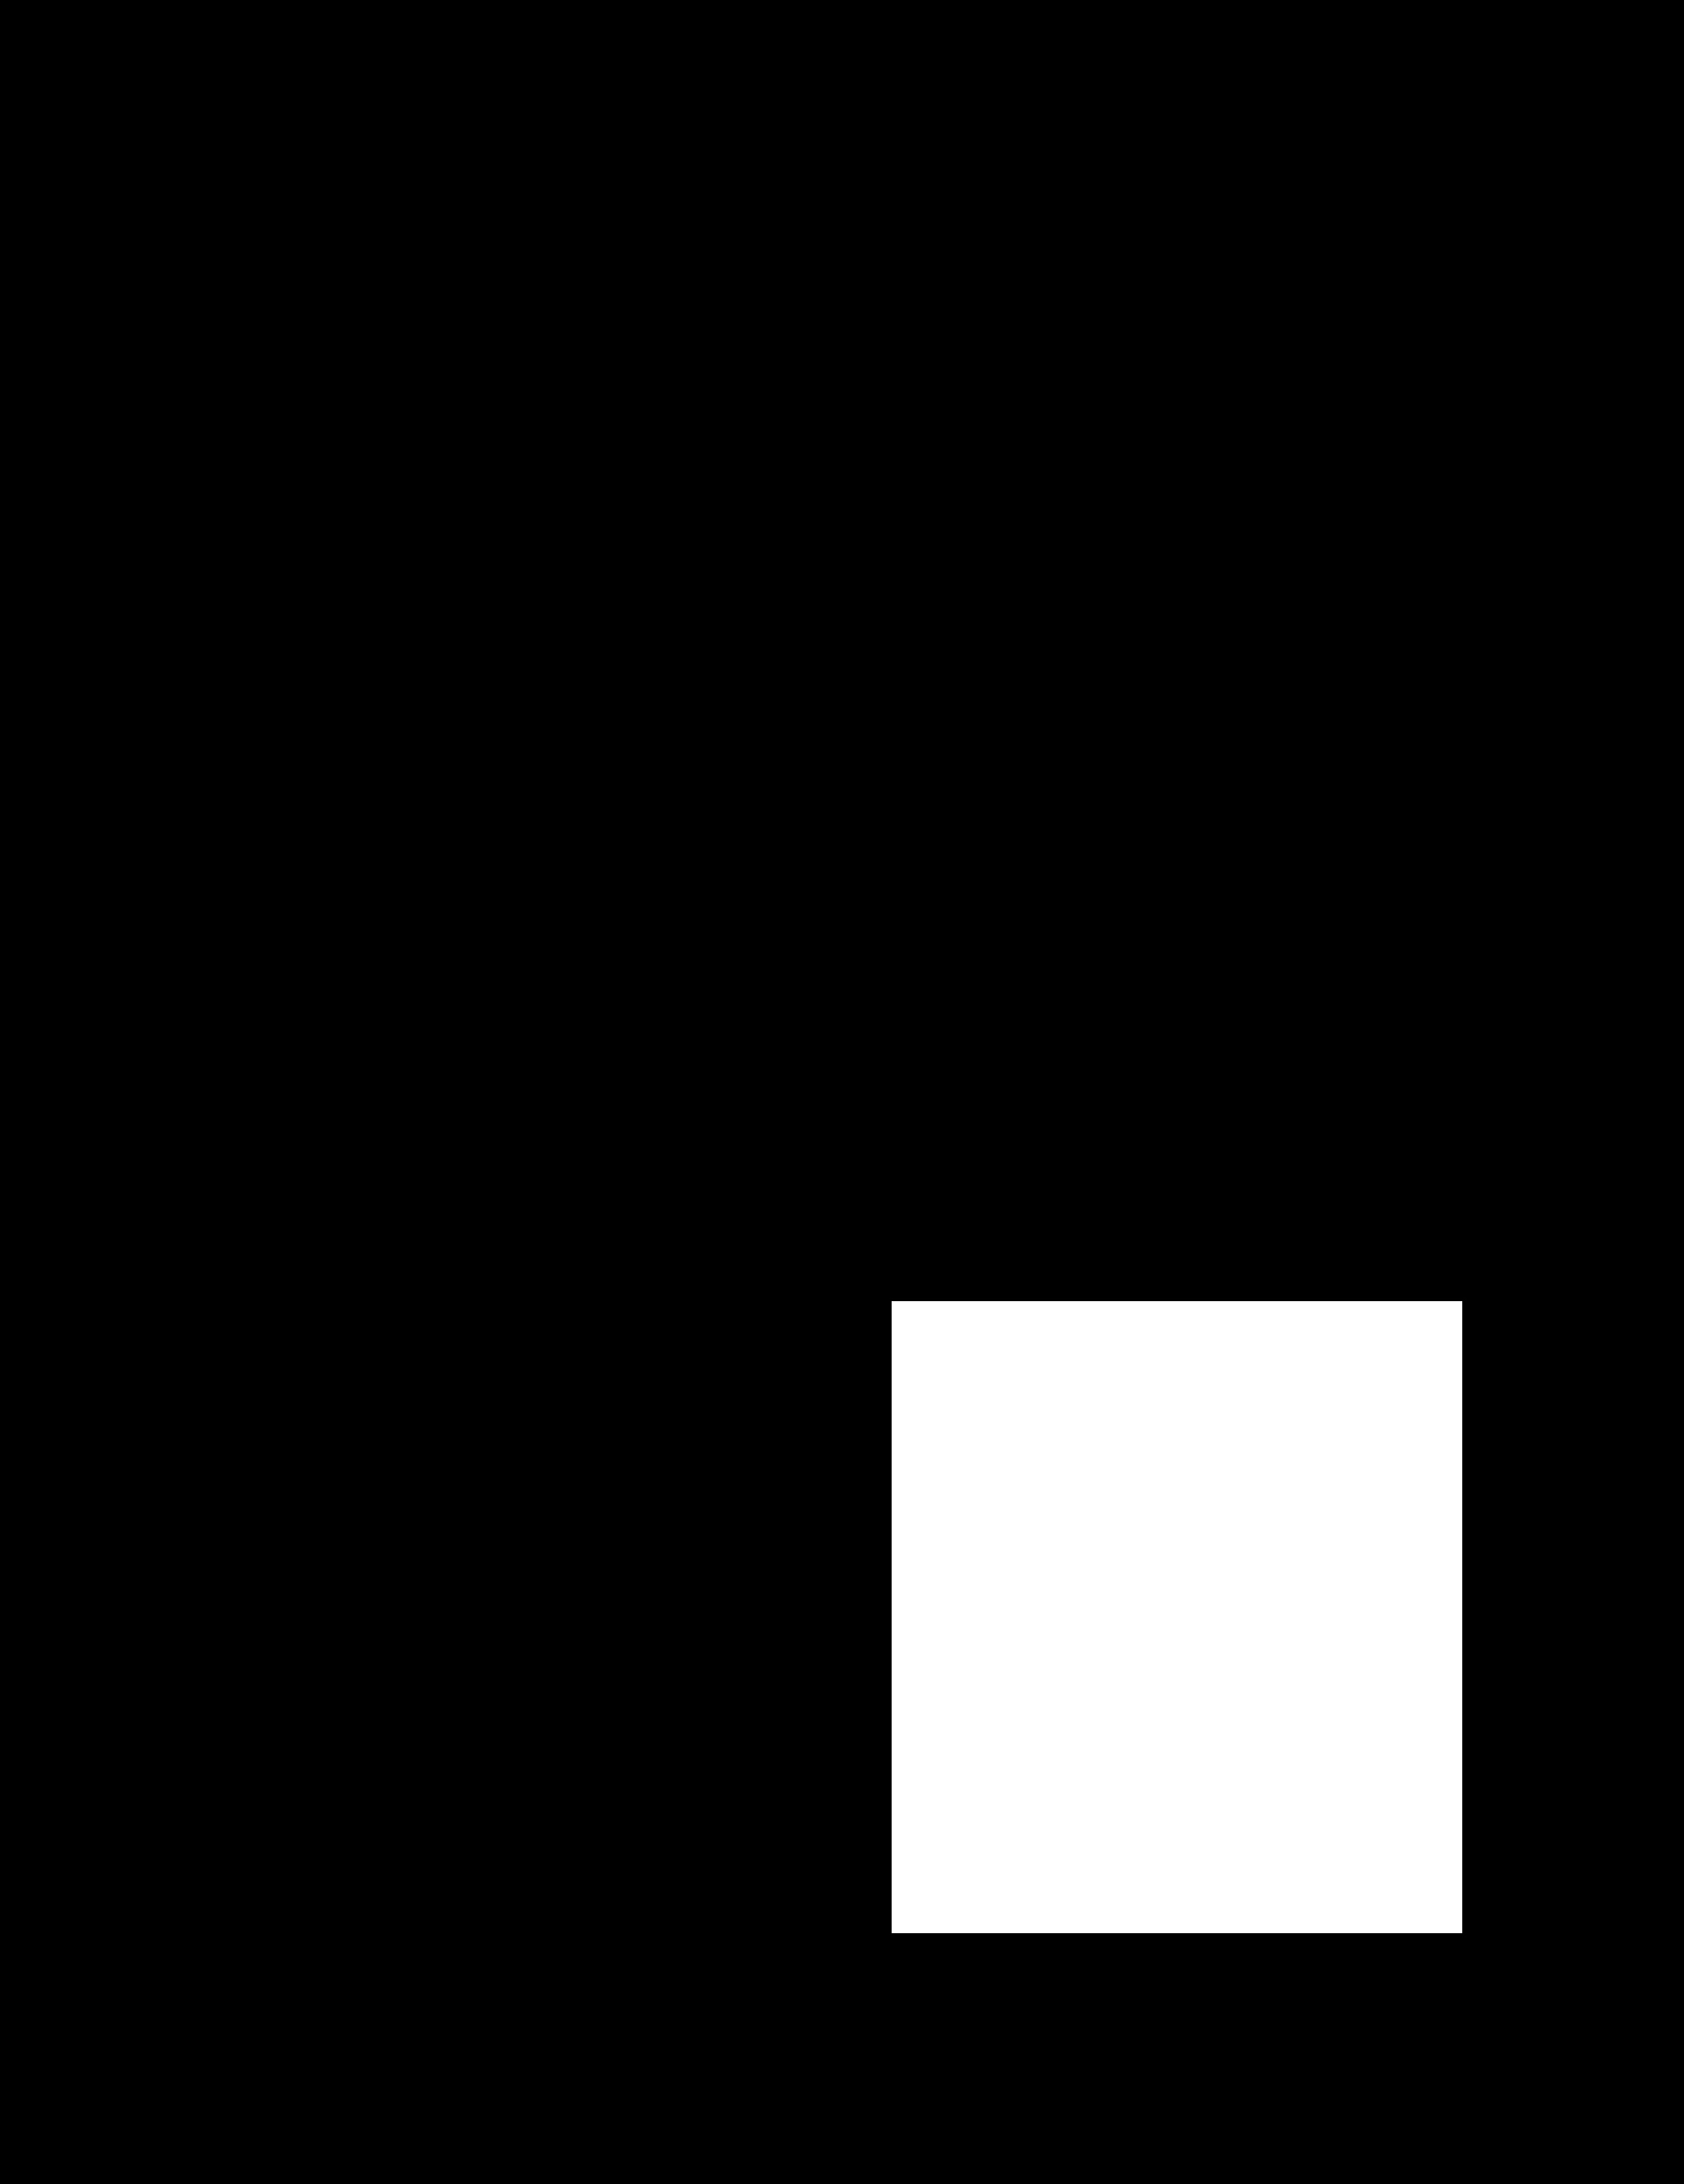table: (892, 1302, 1461, 1933)
